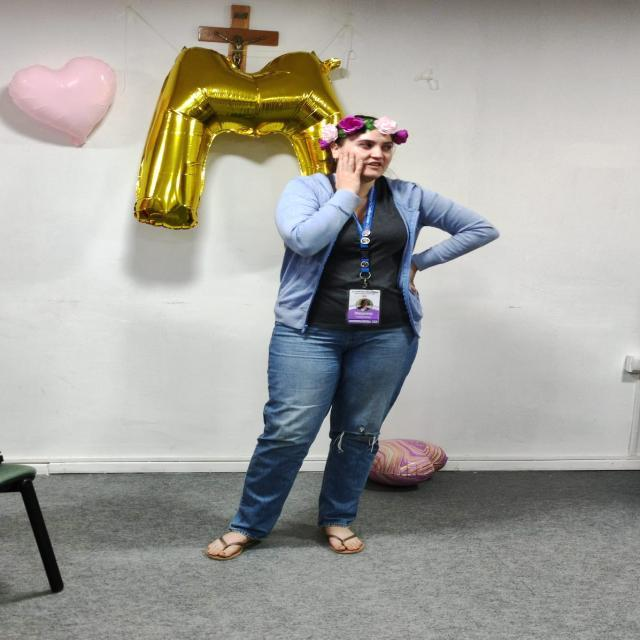person: (193, 112, 518, 574)
